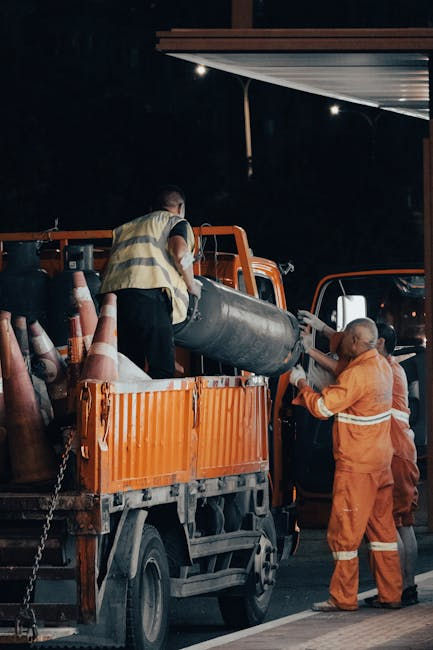traffic_cone: (79, 292, 119, 383)
